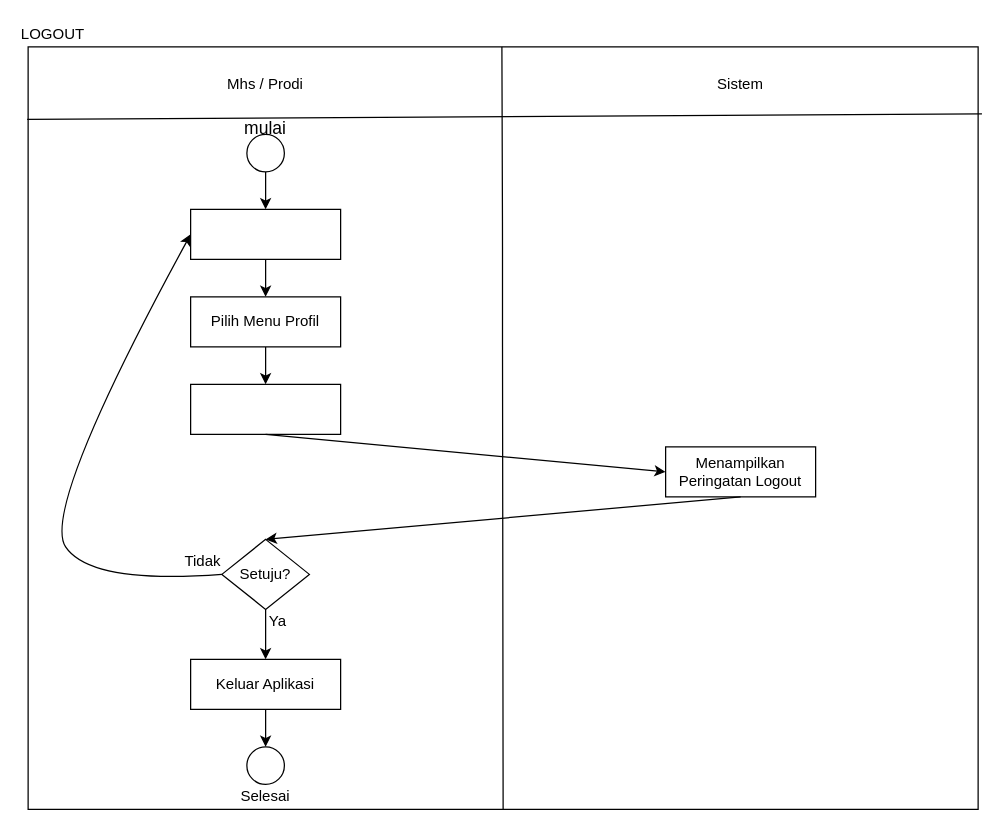
The diagram is 1006 pixels wide and 833 high, and some of its shapes have lost their labels. Here are the shapes that lost their labels. From the top down, the centre of each, then its label:
pixel 265 233: Halaman Utama
pixel 265 408: Klik Logout
